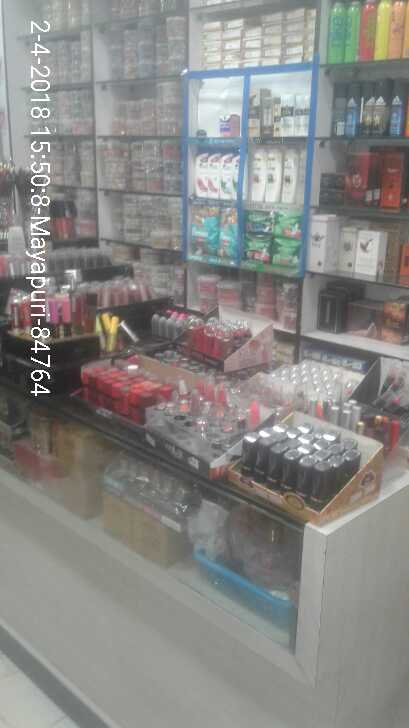vicks: (216, 115, 241, 136)
